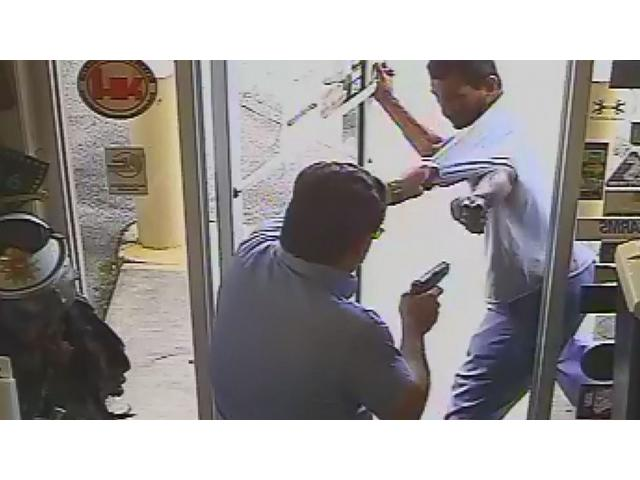pistol: (402, 260, 450, 333)
